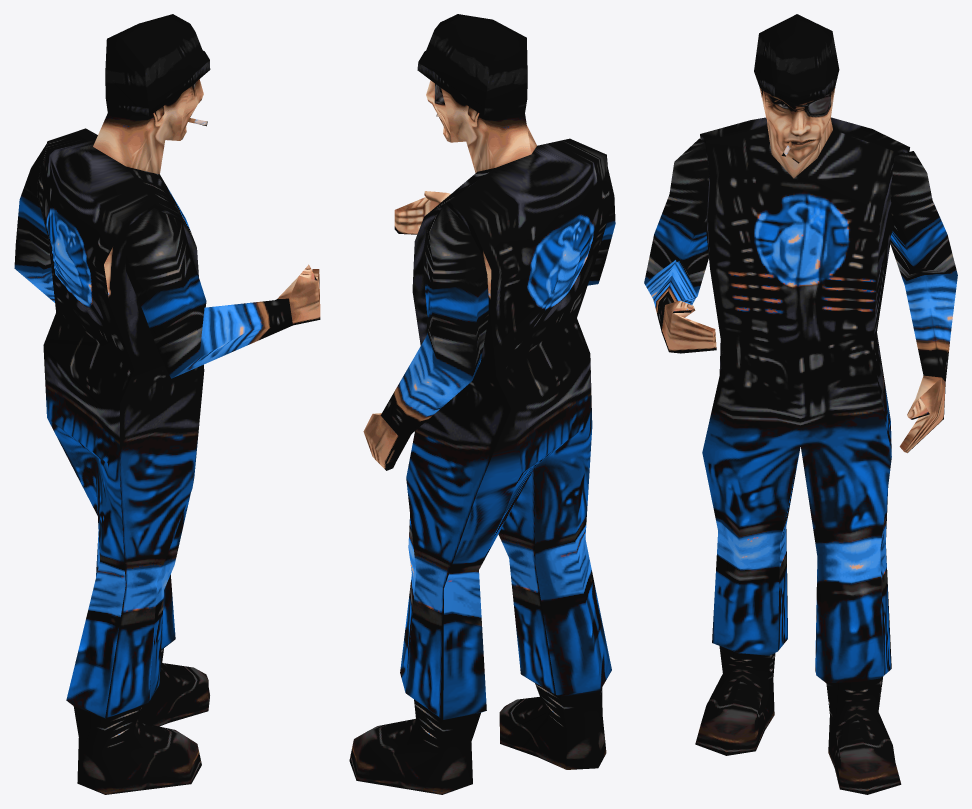
Rendered from demo2_blue.glb.
3 renders of one model, left to right at view 1: azimuth 30°, elevation 25°; view 2: azimuth 150°, elevation 25°; view 3: azimuth 270°, elevation 25°, orthographic. The views are drawn at different scales.
Parts seen in each view (by area): view 1: demo2; view 2: demo2; view 3: demo2.
Boxes of the visible parts, left/top/right/bottom form: demo2: left=14, top=14, right=320, bottom=794; demo2: left=349, top=14, right=615, bottom=794; demo2: left=644, top=14, right=957, bottom=794.
Size of the model in its own units: 24.4 by 74.36 by 28.94.
1 material, 1 textured.
